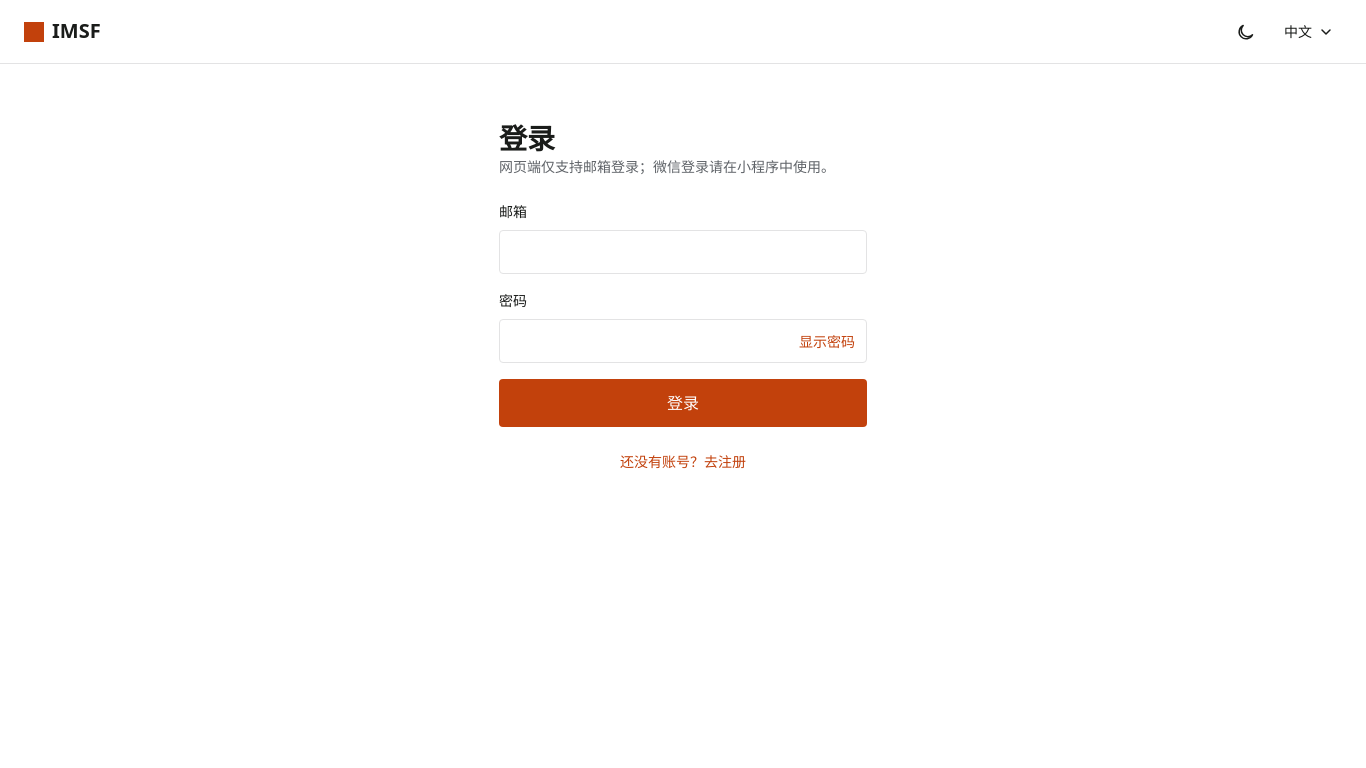
it: error mapping › a network failure shows the network banner
In the field labelled "邮箱": (683, 252) [499,230,867,274], type "a@b.c"
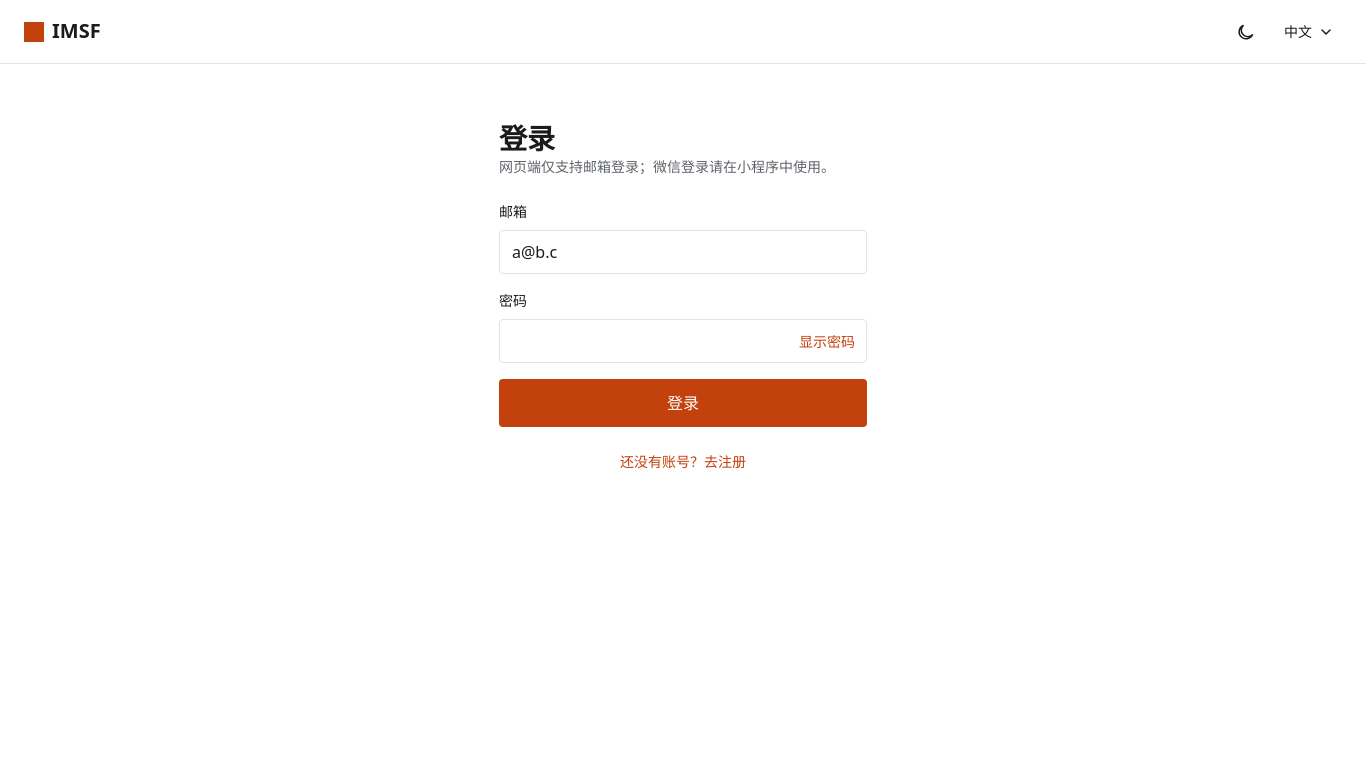
In the password field labelled "密码": (683, 341) [499,319,867,363], type "longenough"
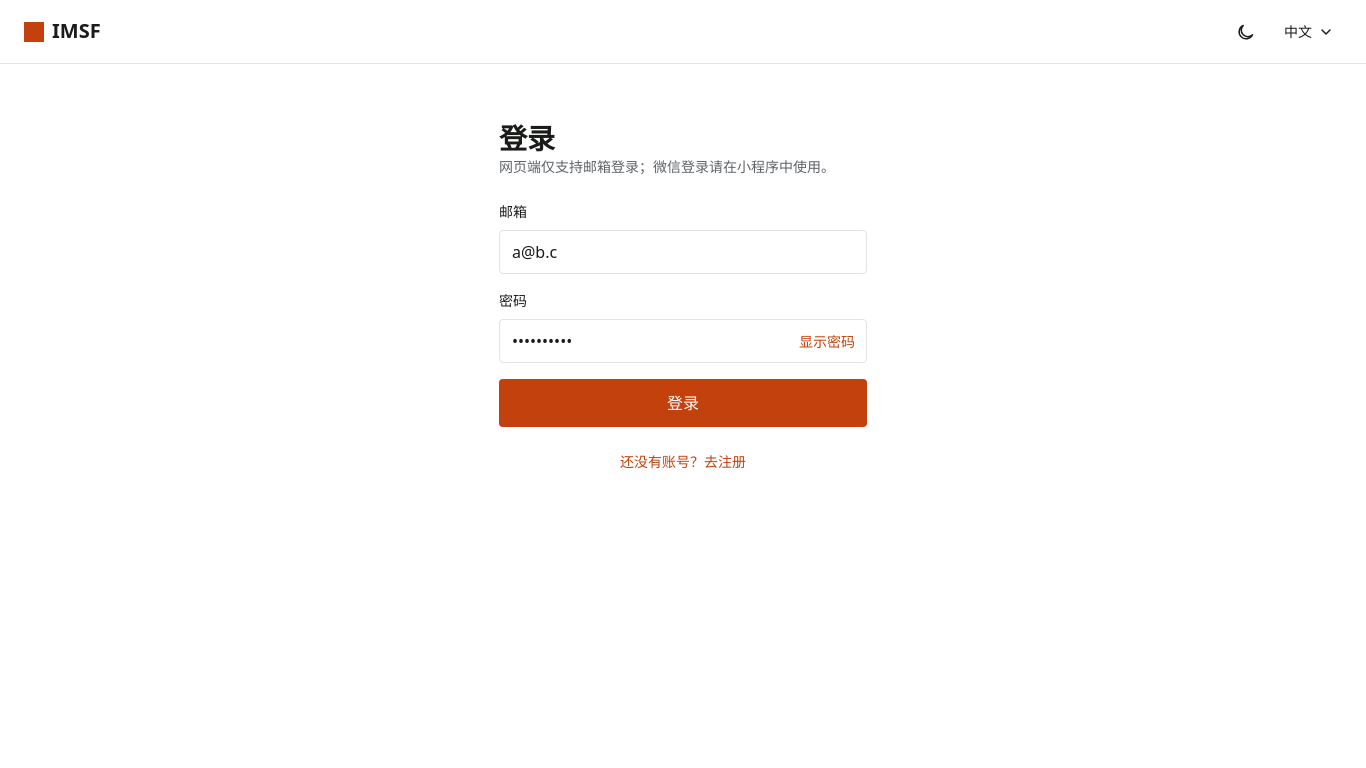
Click the button "登录": (683, 403) [499,379,867,427]
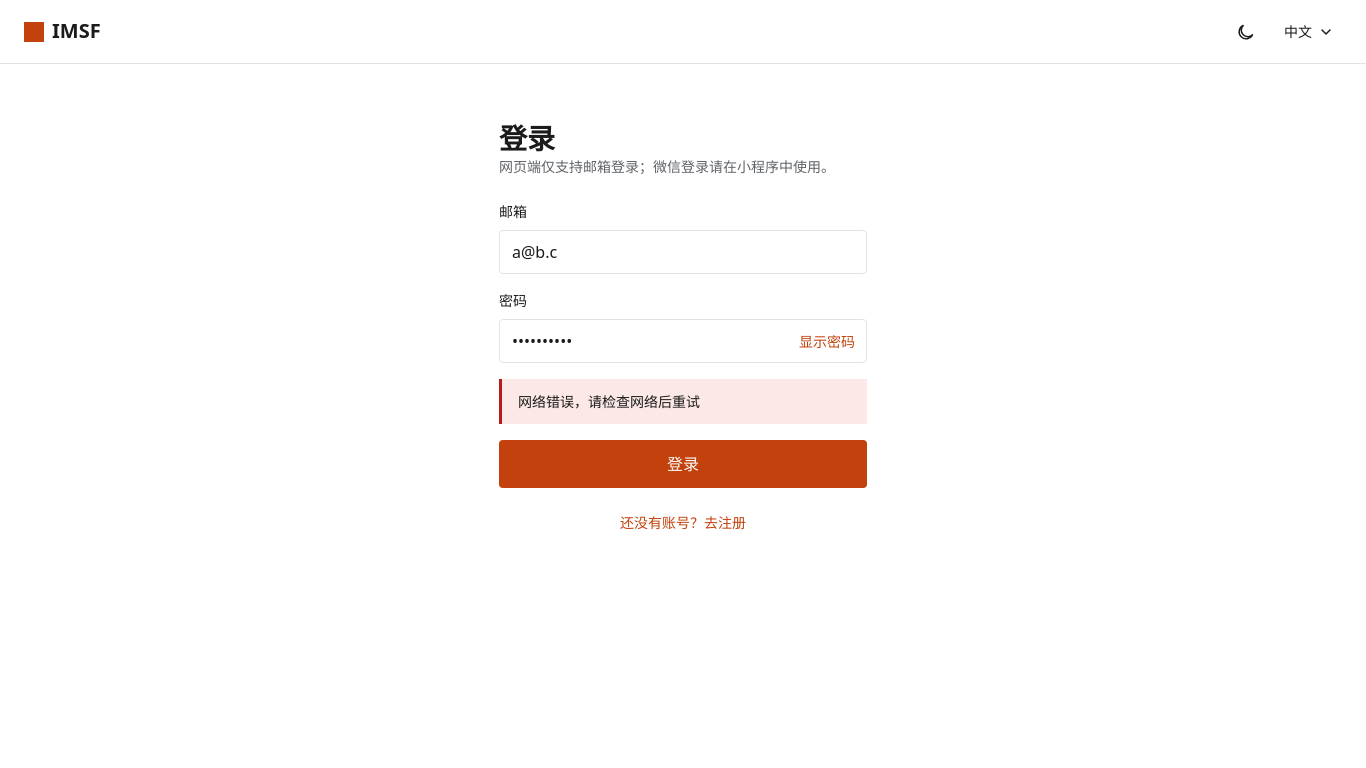
Check: the message reads "网络错误，请检查网络后重试", box [518,392,700,411]
